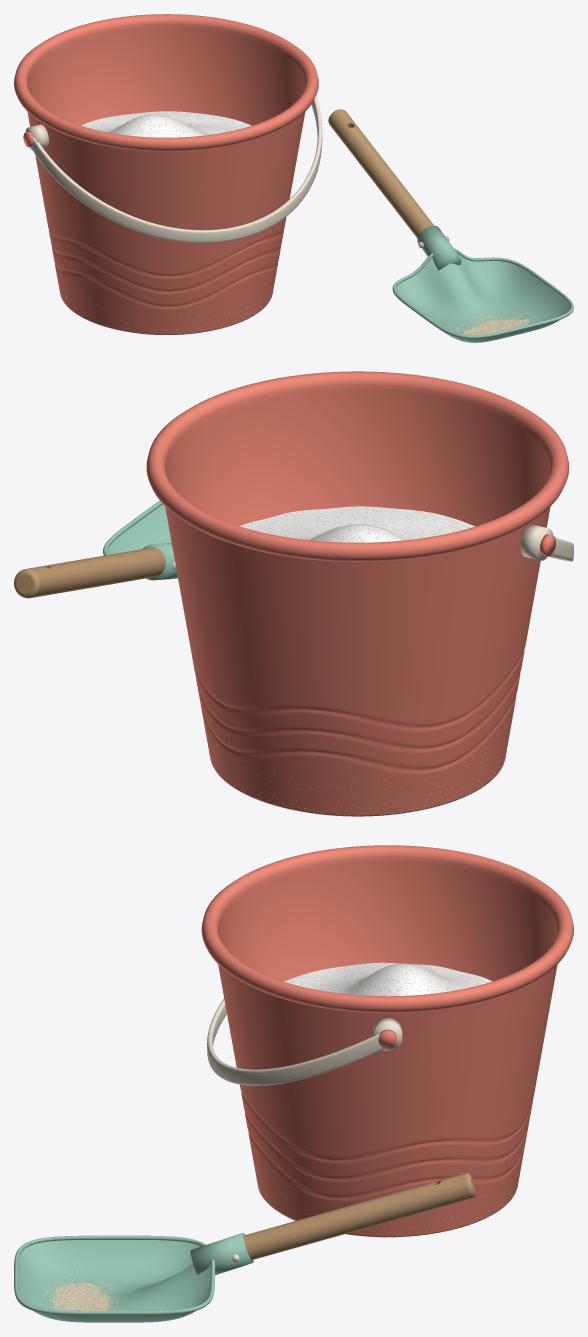
Rendered from beach-pail-v13.glb.
3 renders of one model, top to bottom at view 1: azimuth 30°, elevation 25°; view 2: azimuth 150°, elevation 25°; view 3: azimuth 270°, elevation 25°, orthographic. The views are drawn at different scales.
Visible parts, largest first — view 1: Pail | double wall and moulded wave grooves, Spade | rounded cupped blade and moulded neck, Pail | flattened ivory handle, Spade | wooden grip with hanging hole, Pail | gently heaped sand, Sand | scattered individual grains, Spade | rounded perimeter, Spade | socket, Spade | loose sand grains; view 2: Pail | double wall and moulded wave grooves, Pail | gently heaped sand, Spade | wooden grip with hanging hole, Sand | scattered individual grains, Spade | rounded cupped blade and moulded neck, Pail | ivory pivot, Spade | socket; view 3: Pail | double wall and moulded wave grooves, Spade | rounded cupped blade and moulded neck, Spade | wooden grip with hanging hole, Pail | gently heaped sand, Pail | flattened ivory handle, Sand | scattered individual grains, Spade | rounded perimeter, Spade | socket, Spade | loose sand grains.
Boxes of the visible parts, x1,y1,x2,y2 form: Pail | double wall and moulded wave grooves: (14,14,318,334); Spade | rounded cupped blade and moulded neck: (396,253,570,342); Pail | flattened ivory handle: (31,95,322,243); Spade | wooden grip with hanging hole: (328,109,433,237); Pail | gently heaped sand: (81,111,251,137); Sand | scattered individual grains: (56,111,546,335); Spade | rounded perimeter: (392,248,573,338); Spade | socket: (417,225,461,270); Spade | loose sand grains: (464,319,529,335); Pail | double wall and moulded wave grooves: (146,371,569,816); Pail | gently heaped sand: (240,506,475,542); Spade | wooden grip with hanging hole: (14,547,165,598); Sand | scattered individual grains: (204,507,512,815); Spade | rounded cupped blade and moulded neck: (107,504,171,554); Pail | ivory pivot: (520,524,553,560); Spade | socket: (142,543,177,580); Pail | double wall and moulded wave grooves: (201,845,573,1237); Spade | rounded cupped blade and moulded neck: (18,1240,210,1322); Spade | wooden grip with hanging hole: (243,1173,475,1259); Pail | gently heaped sand: (284,962,492,996); Pail | flattened ivory handle: (207,998,384,1085); Sand | scattered individual grains: (43,963,521,1310); Spade | rounded perimeter: (14,1235,215,1315); Spade | socket: (190,1233,253,1275); Spade | loose sand grains: (52,1282,108,1310).
Size of the model in its own units: 0.9074 by 0.457 by 0.8814.
Materials: 9 (1 with a texture image).
